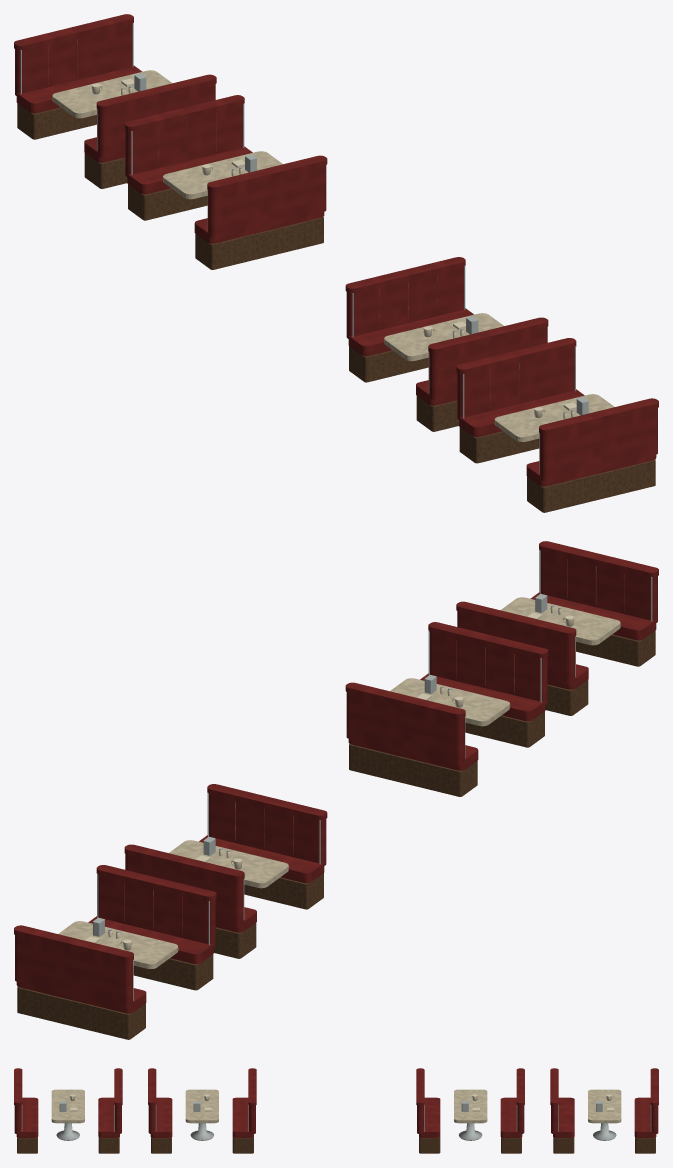
The model's file is SM_Mesa_Booths.fbx.
3 views of the same model, one above another, from view 1: azimuth 30°, elevation 25°; view 2: azimuth 150°, elevation 25°; view 3: azimuth 270°, elevation 25° (orthographic). The views are drawn at different scales.
Parts seen in each view (by area): view 1: SM_Mesa_Booths; view 2: SM_Mesa_Booths; view 3: SM_Mesa_Booths.
Part boxes in pixels (x1=…): SM_Mesa_Booths: x1=14, y1=14, x2=658, y2=512; SM_Mesa_Booths: x1=14, y1=541, x2=658, y2=1039; SM_Mesa_Booths: x1=14, y1=1068, x2=658, y2=1153.
Bounding box in the file's own units: 1.87 × 14.67 × 1.28.
